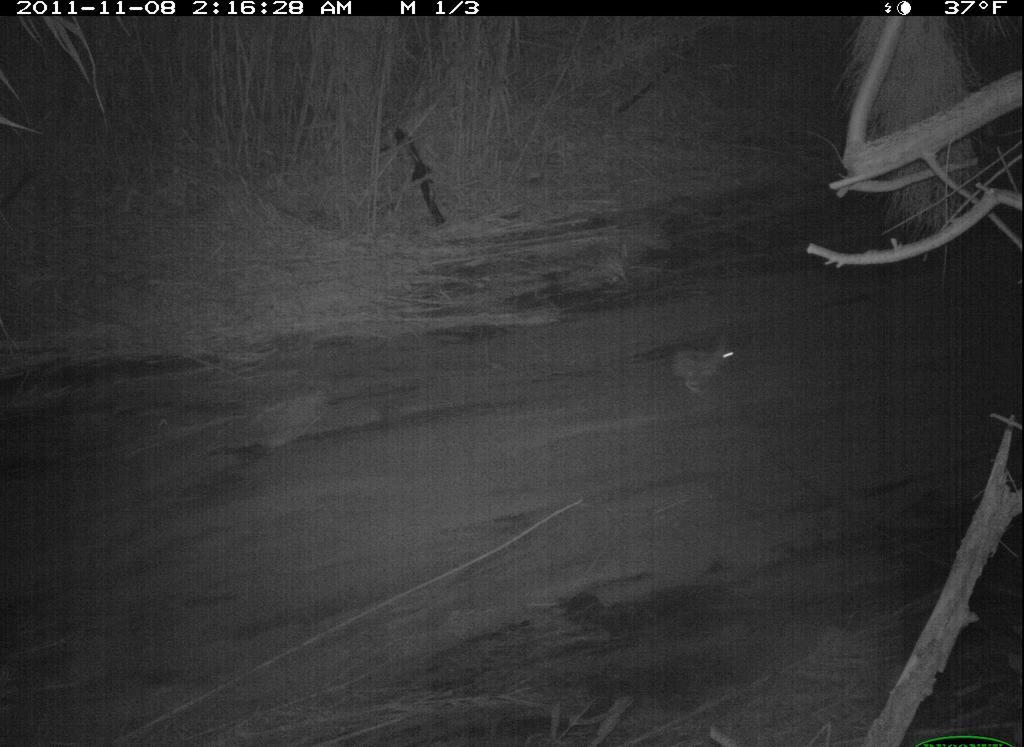rabbit: (665, 327, 743, 401)
